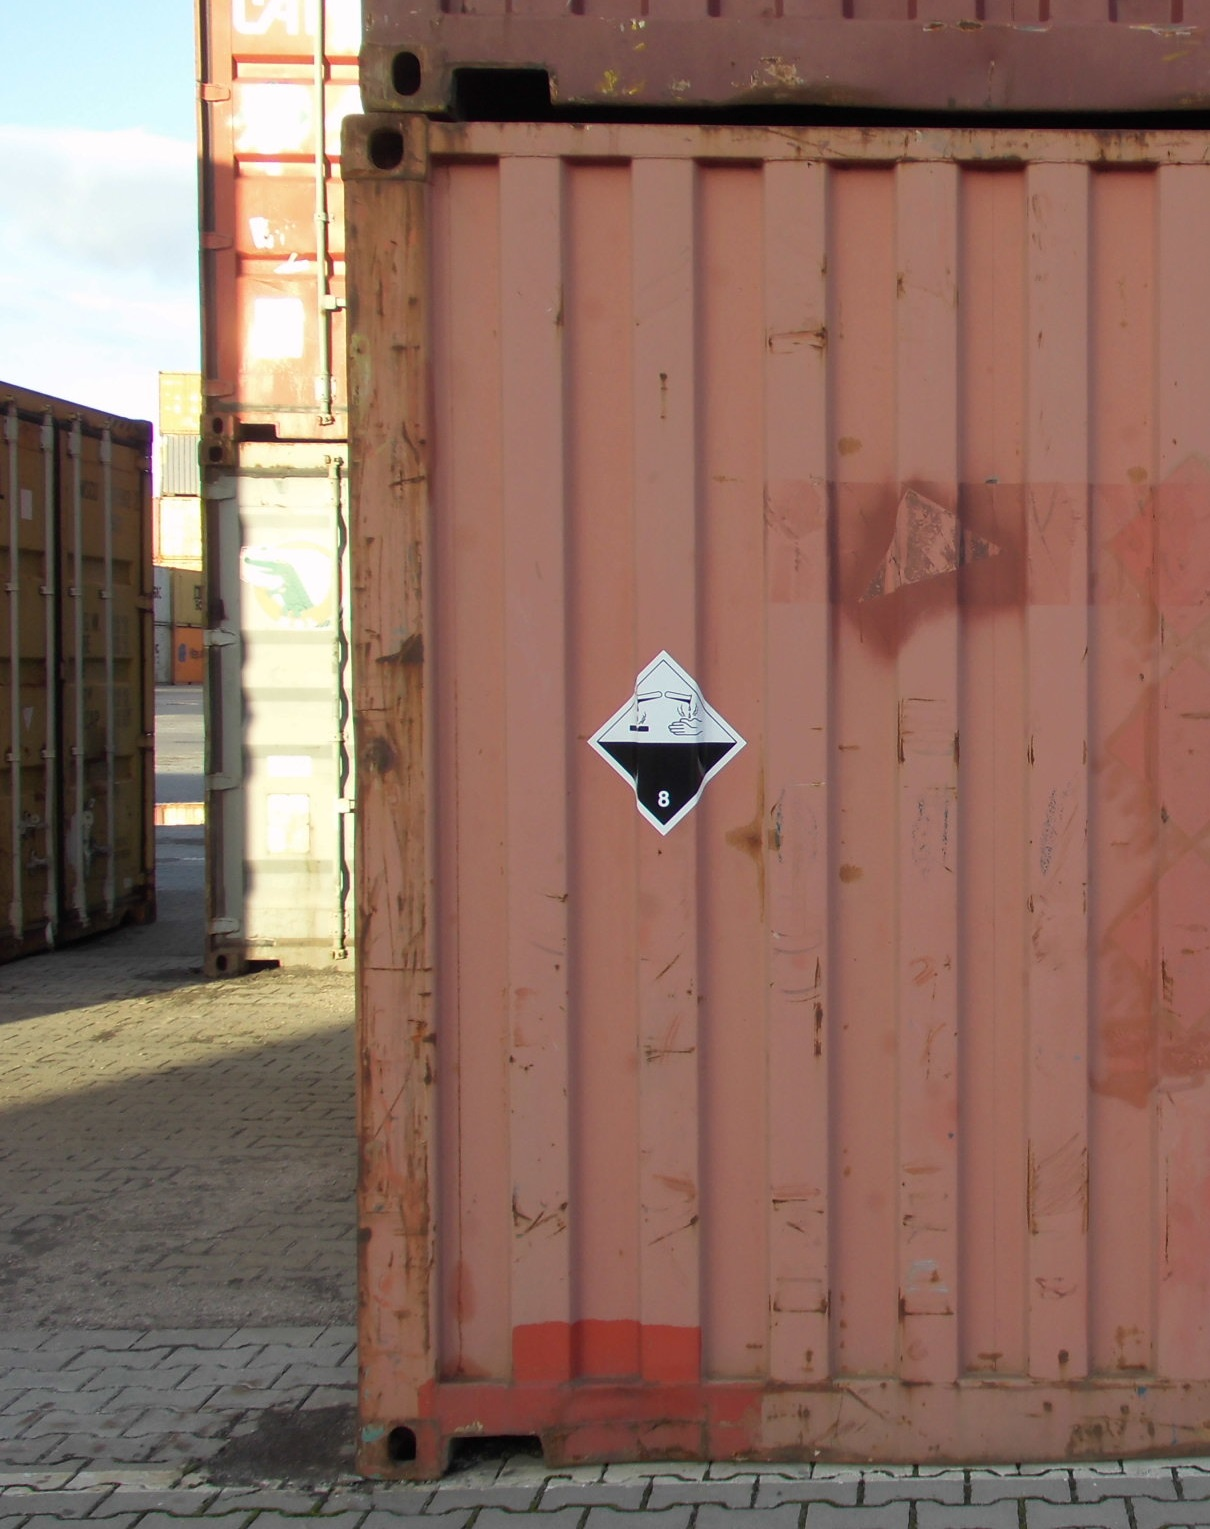container_door: (1, 388, 158, 985), (197, 1, 362, 436)
container_no_door: (357, 129, 1210, 1473)
